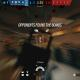Friend_label: (1, 40, 7, 44), (32, 40, 38, 42), (26, 41, 29, 43)
